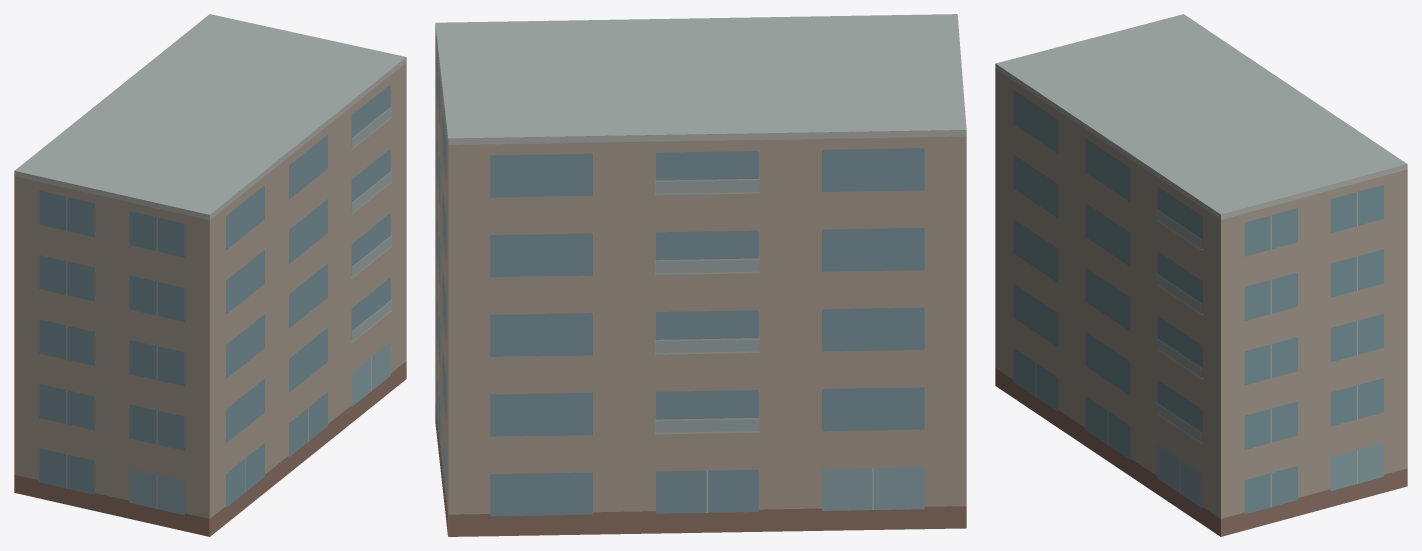
The model's file is survey-upis-33016077.glb.
The picture shows the model from 3 angles, left to right: view 1: azimuth 30°, elevation 25°; view 2: azimuth 150°, elevation 25°; view 3: azimuth 270°, elevation 25°; orthographic projection. The views are drawn at different scales.
Visible parts, largest first — view 1: survey-upis-33016077.tmp; view 2: survey-upis-33016077.tmp; view 3: survey-upis-33016077.tmp.
Part boxes in pixels (bbox=[...]): survey-upis-33016077.tmp: bbox=[14, 14, 406, 536]; survey-upis-33016077.tmp: bbox=[435, 14, 966, 536]; survey-upis-33016077.tmp: bbox=[995, 14, 1407, 536].
Bounding box in the file's own units: 19.57 × 14.65 × 16.99.
